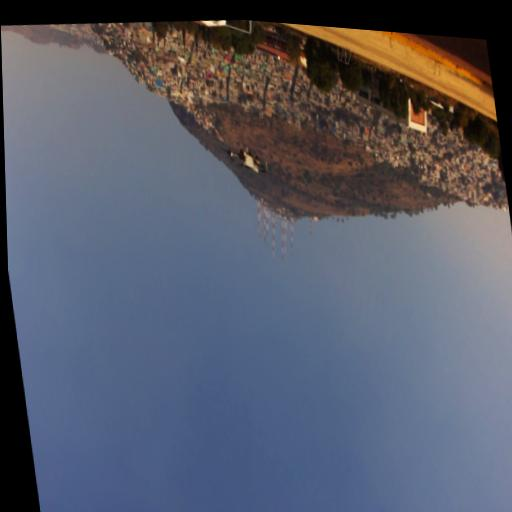drones: (222, 137, 271, 182)
